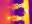Hotspot: (17, 16, 23, 20), (15, 4, 23, 7), (25, 9, 29, 14)
